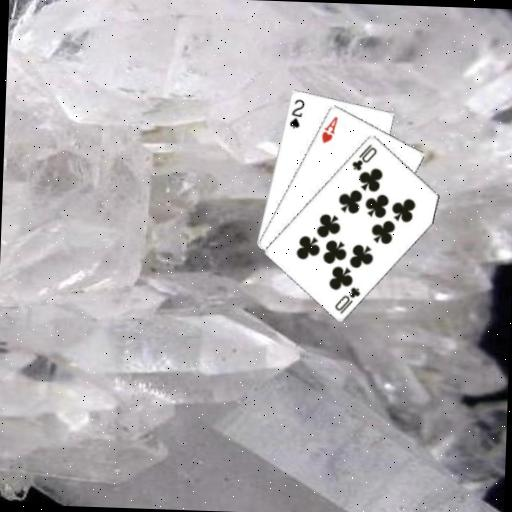10C: (331, 282, 362, 315), (348, 140, 378, 172)
2S: (286, 95, 306, 130)
AH: (318, 112, 339, 145)
